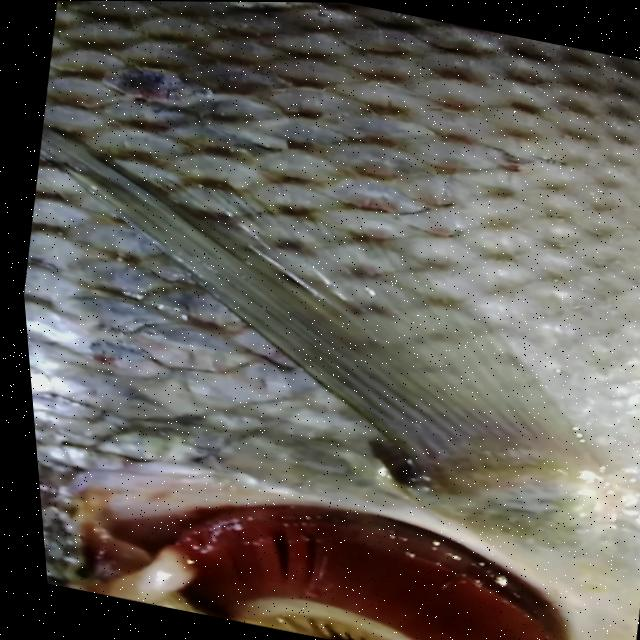Fresh: (78, 460, 595, 640)
